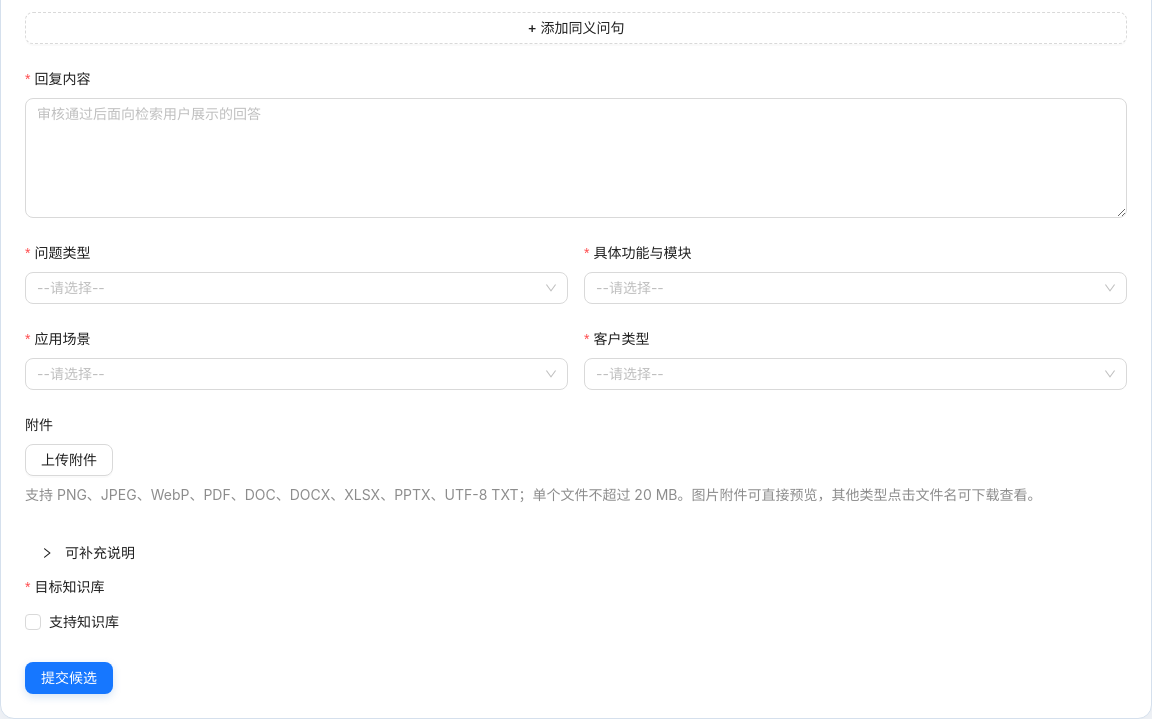
Test: ContentSubmissionPage › uses category labels and compact option layout
(page scrolled)
Check: the search field labelled "问题类型" is shown, box [25,242,104,264]
Check: the element with class "knowledge-base-options" is shown, box [25,613,119,630]
Step 1. Click the button "可补充说明" → (88, 552), box [41,544,135,561]
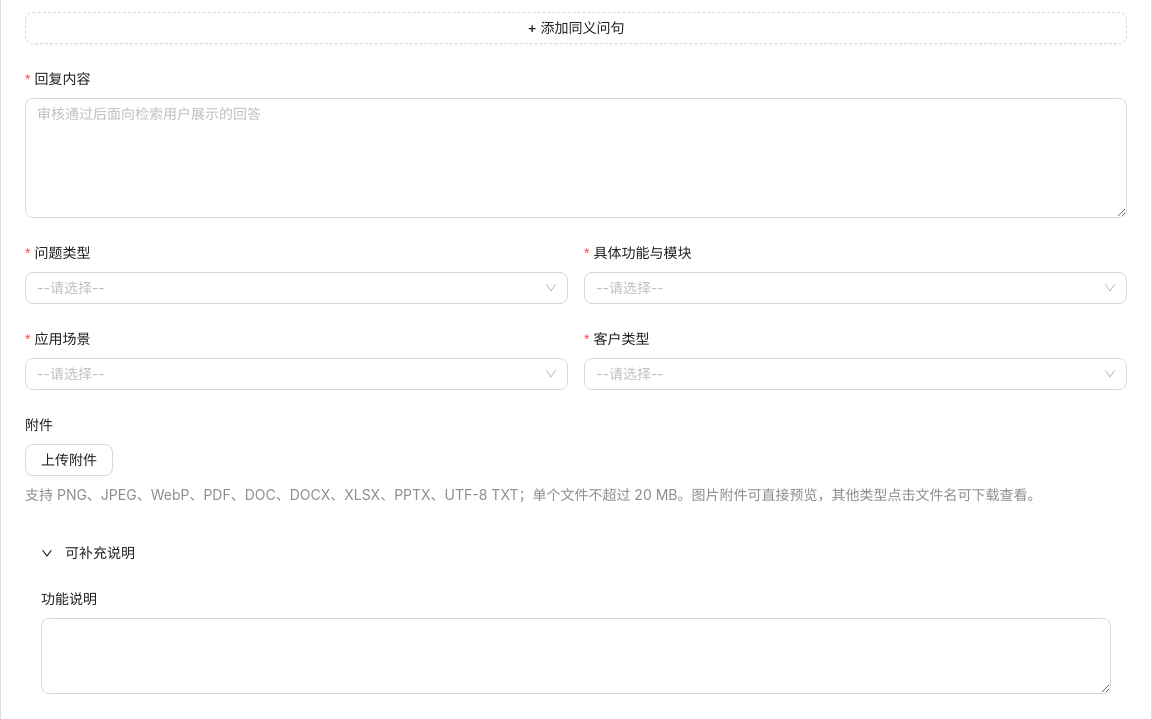
Check: the text box labelled "功能说明" is shown, box [41,618,1111,694]
